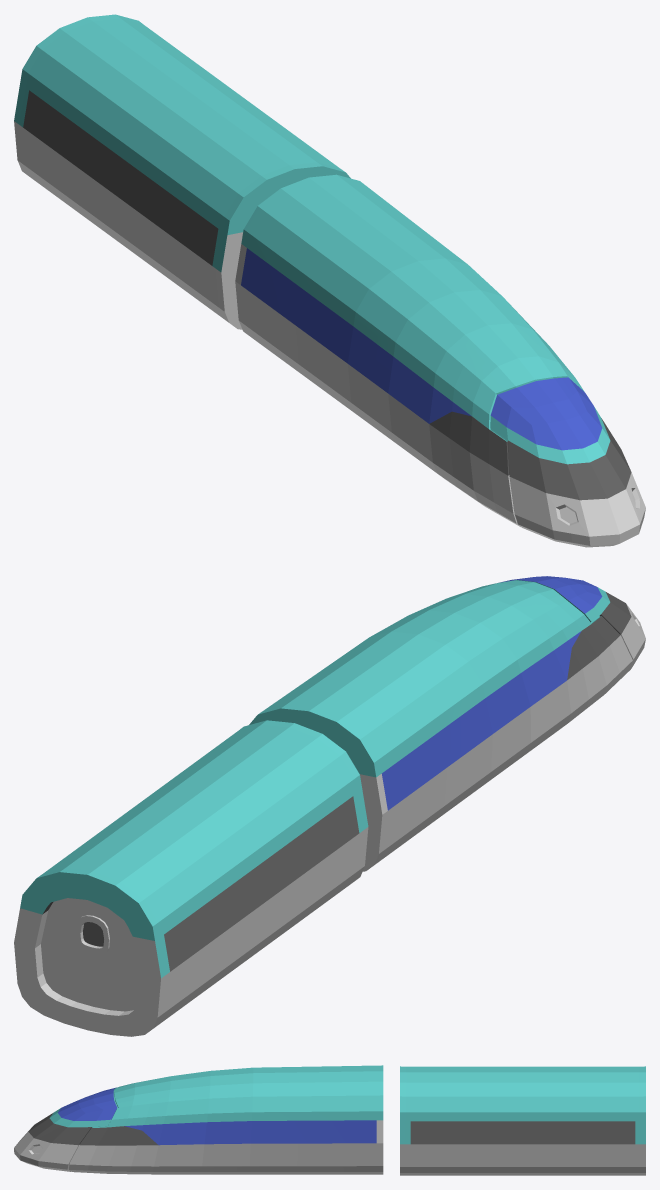
File: Train.fbx
3 views of the same model, one above another, from view 1: azimuth 30°, elevation 25°; view 2: azimuth 150°, elevation 25°; view 3: azimuth 270°, elevation 25° (orthographic). The views are drawn at different scales.
Parts seen in each view (by area): view 1: Cube_024_Cube_000, Cube_024_Cube_001; view 2: Cube_024_Cube_001, Cube_024_Cube_000; view 3: Cube_024_Cube_000, Cube_024_Cube_001.
Boxes of the visible parts, x1,y1,x2,y2 form: Cube_024_Cube_000: [235, 174, 645, 547]; Cube_024_Cube_001: [14, 14, 350, 329]; Cube_024_Cube_001: [14, 720, 368, 1036]; Cube_024_Cube_000: [249, 576, 645, 871]; Cube_024_Cube_000: [14, 1065, 383, 1174]; Cube_024_Cube_001: [400, 1066, 645, 1175].
Bounding box in the file's own units: 2.78 × 2.84 × 17.45.
